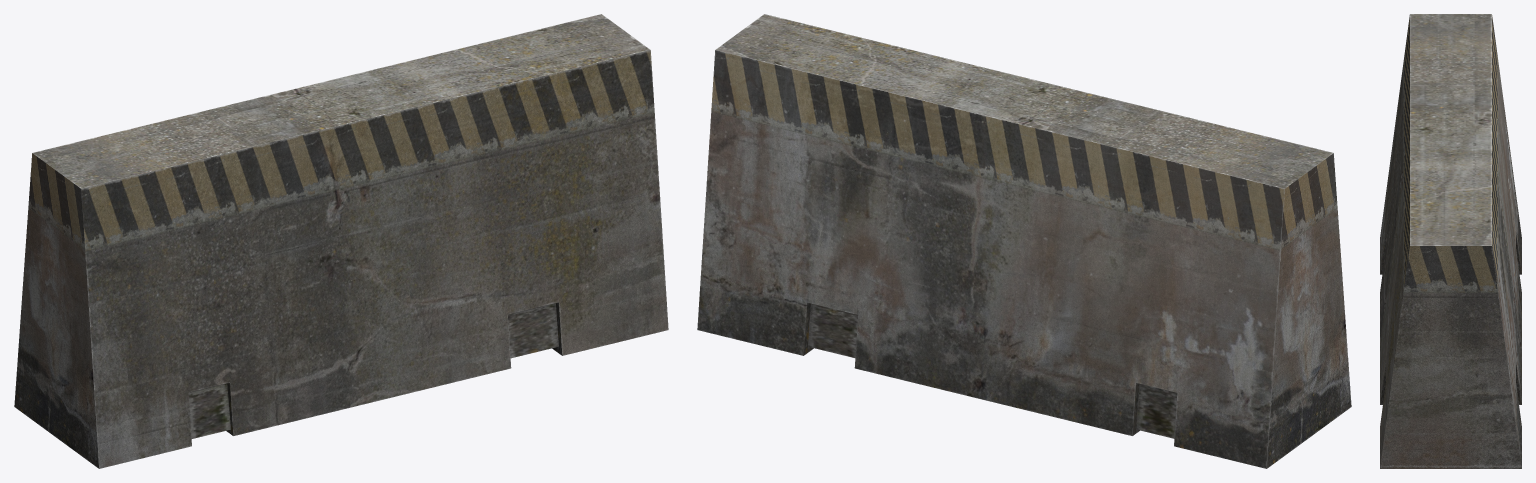
File: roadblock_concrete.fbx
3 views of the same model, side by side, from view 1: azimuth 30°, elevation 25°; view 2: azimuth 150°, elevation 25°; view 3: azimuth 270°, elevation 25° (orthographic). The views are drawn at different scales.
Parts seen in each view (by area): view 1: pCube20; view 2: pCube20; view 3: pCube20.
Part boxes in pixels (<box>): pCube20: <box>14,14,668,468</box>; pCube20: <box>697,14,1351,468</box>; pCube20: <box>1380,14,1521,468</box>.
Bounding box in the file's own units: 306 × 137 × 78.84.
